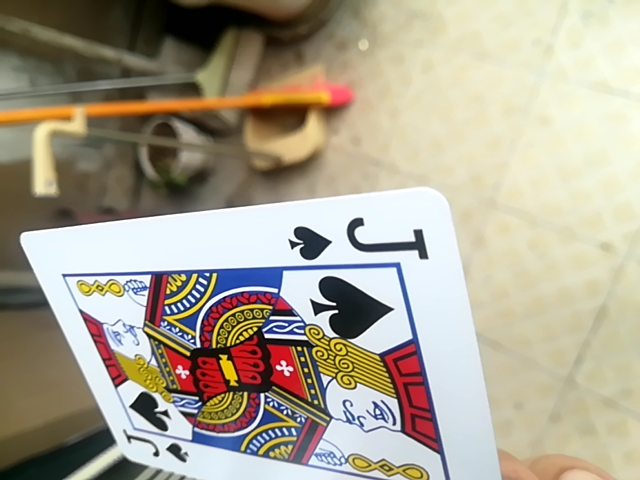ht j: (20, 189, 501, 480)
